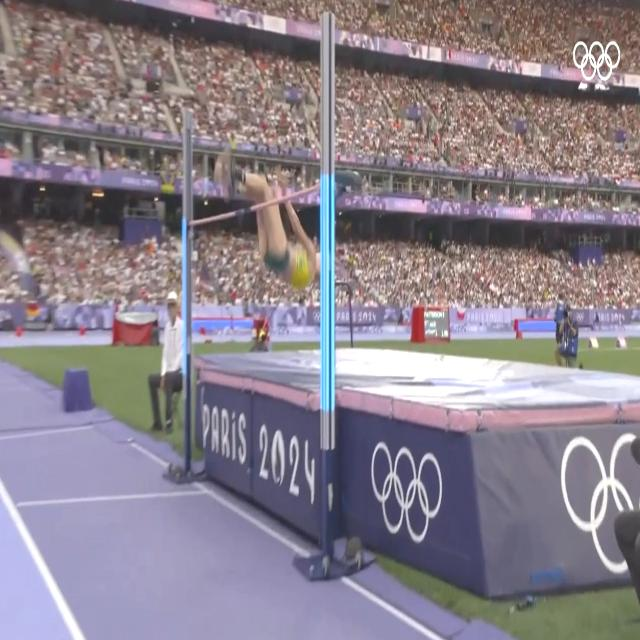land: (213, 149, 325, 287)
